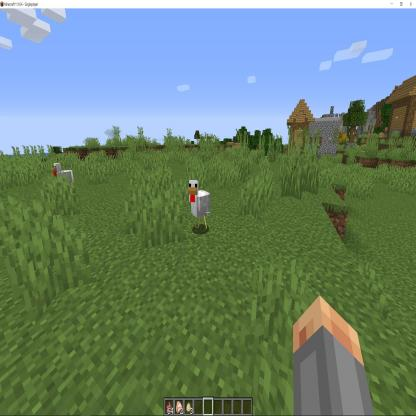minecraft-pigs: (185, 174, 214, 236), (50, 157, 77, 198)
